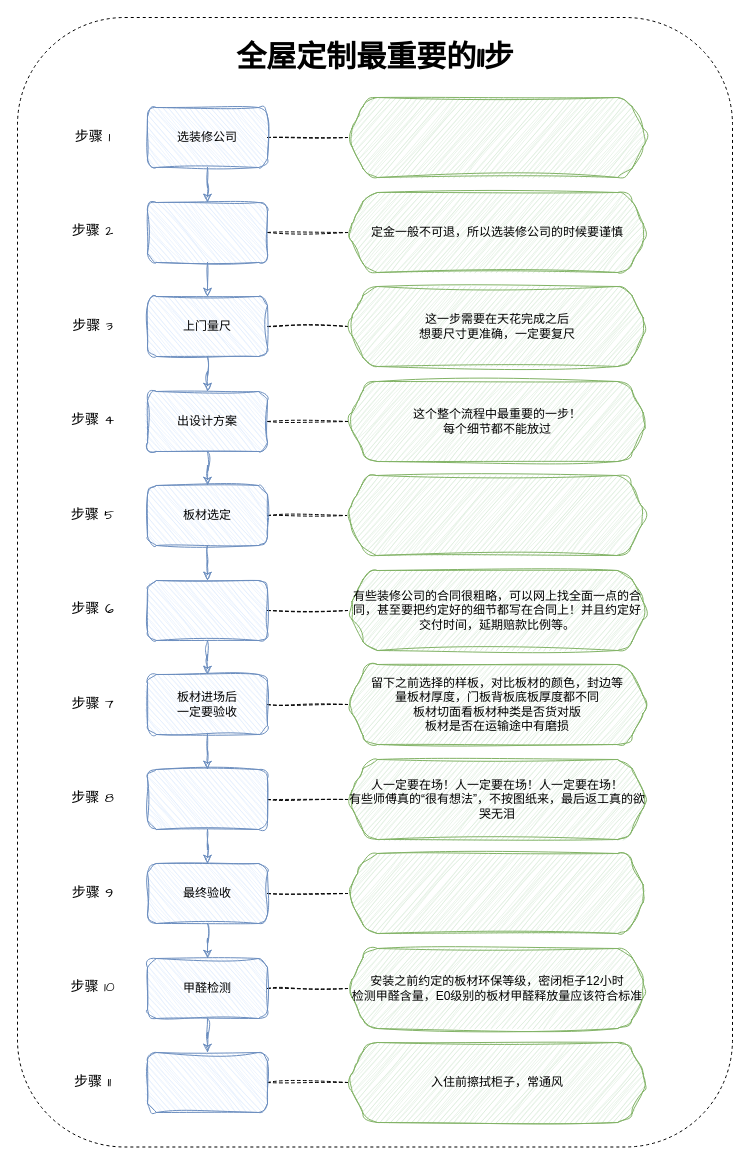
Image size: 750x1165. Some labels were removed from this diagram. The centre of each missing label's shape, as x and y in pixels:
"交定金" goes at point 207,232.
"对比多家公司，最好选择靠谱的工厂，还要询问板材的品牌" goes at point 497,137.
"师傅进场安装" goes at point 207,799.
"板材种类很多，有颗粒板，实木板等，建议按需选择 板材饰面和封边技术按个人喜好来 环保等级选E0级别 选完板材要留下样板，方便后面到货验收" goes at point 496,515.
"签合同" goes at point 207,610.
"通风" goes at point 207,1082.
"验收门的开合是否顺畅 悬空柜是否牢固 抽屉导轨是否顺滑等" goes at point 497,893.
